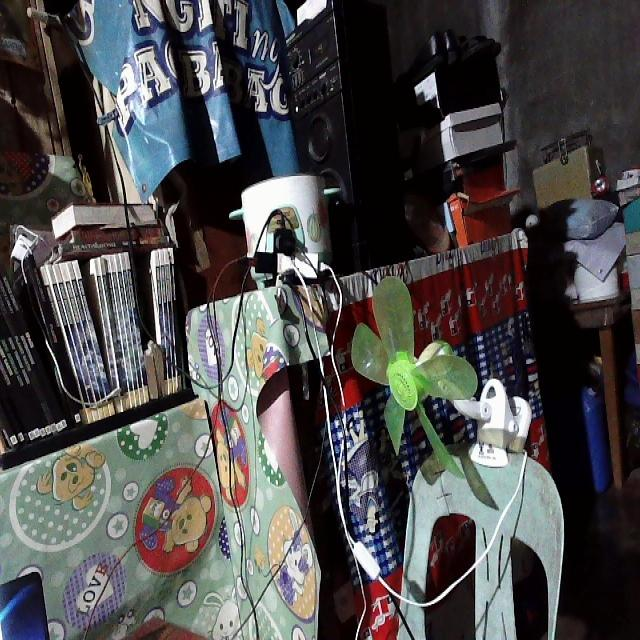-: (242, 204, 330, 301)
